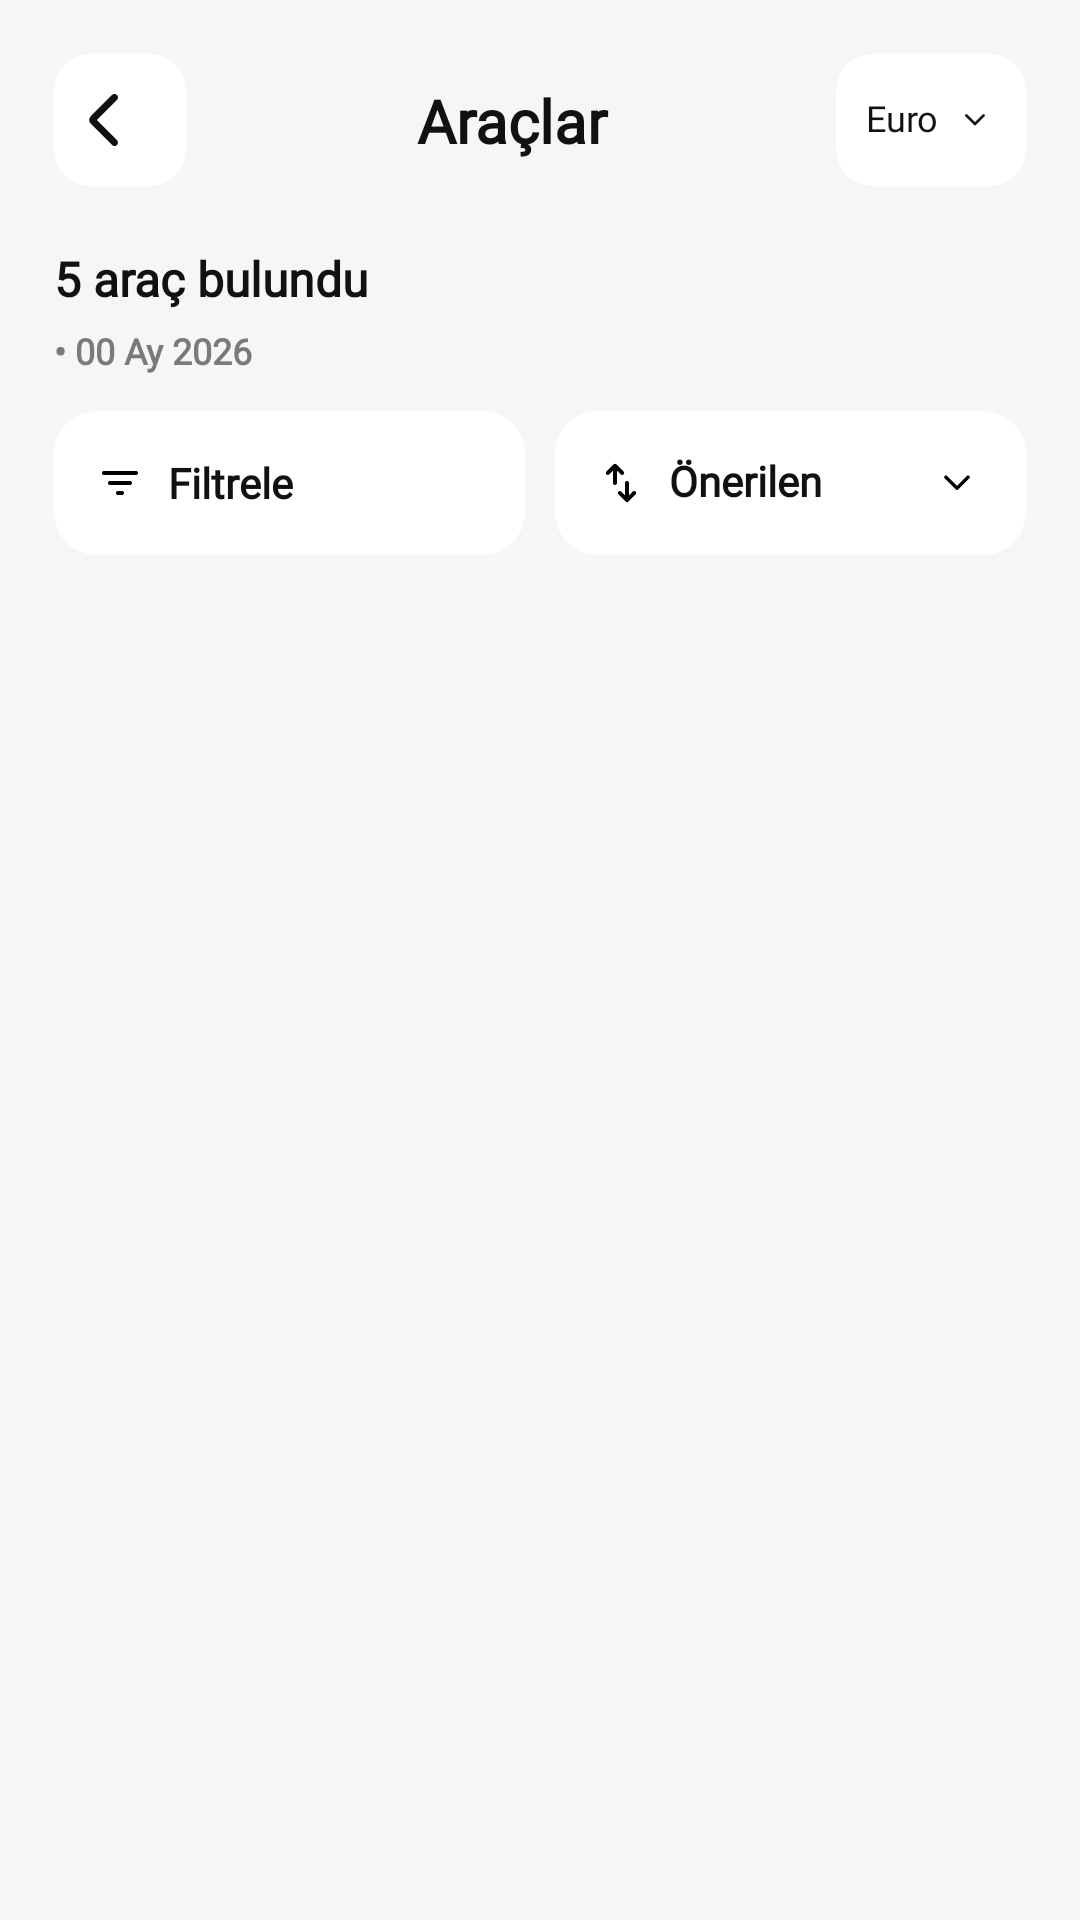

Icon bounding boxes for this 1080w x 1920h phone screenshot, format bbox=[x1, y1, x2, y2]:
arrow back: bbox=[54, 54, 186, 186]
filter: bbox=[102, 471, 138, 495]
